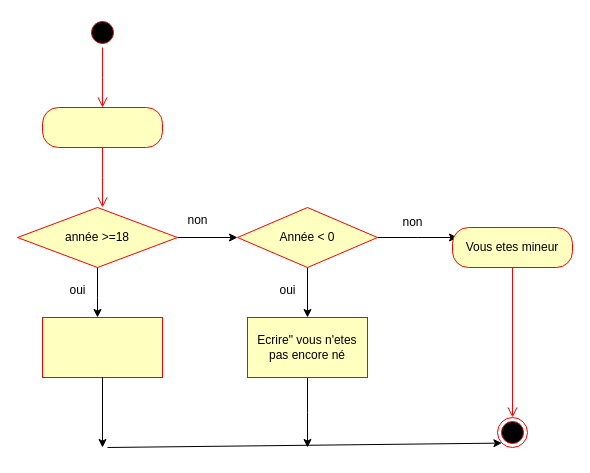
Some shapes in this 590 by 473 pixel diagram are drawn without their labels. Here are the shapes that lost their labels. From the top down, the box of each, then its label:
(42, 106, 162, 148): saisir votre age
(42, 316, 162, 378): Ecrire "Vous ètes majeurs"
